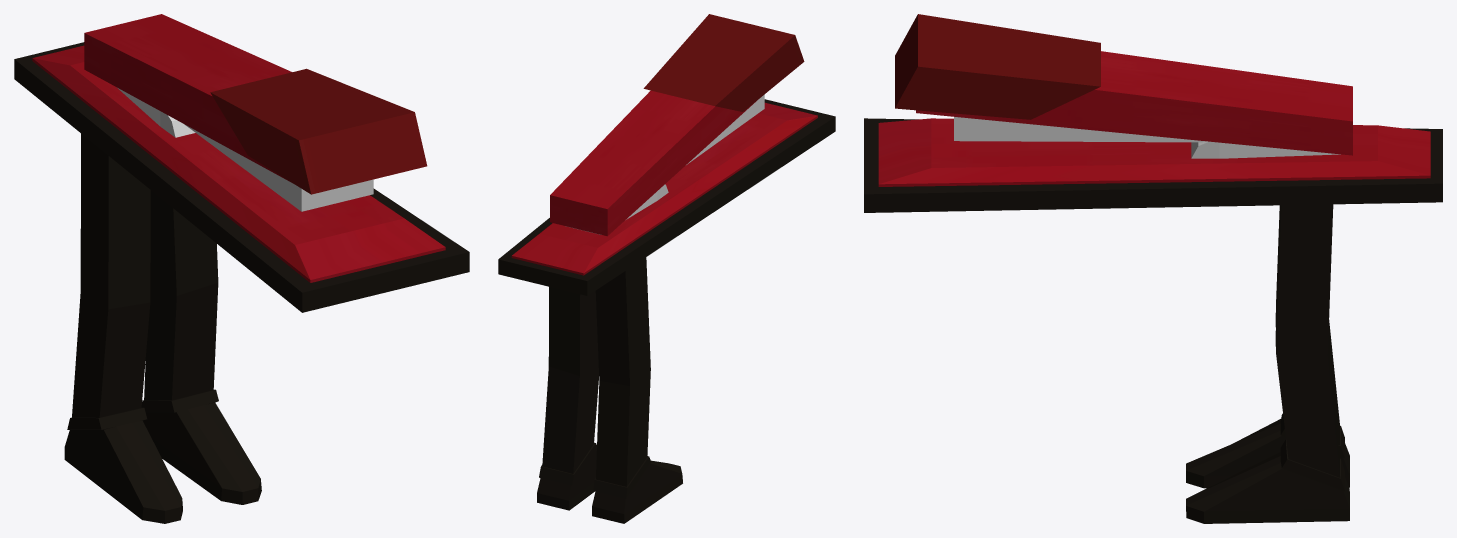
File: StaplerEnemySmall.fbx
3 renders of one model, left to right at view 1: azimuth 30°, elevation 25°; view 2: azimuth 150°, elevation 25°; view 3: azimuth 270°, elevation 25°, orthographic. The views are drawn at different scales.
Visible parts, largest first — view 1: Cube, Cube.001, Cube.003, Cube.004, Cube.005, Cube.002; view 2: Cube, Cube.001, Cube.003, Cube.004, Cube.005, Cube.002; view 3: Cube, Cube.003, Cube.004, Cube.005, Cube.002, Cube.001.
Boxes of the visible parts, x1,y1,x2,y2 form: Cube: (32, 14, 445, 282); Cube.001: (64, 133, 182, 523); Cube.003: (141, 190, 261, 504); Cube.004: (210, 68, 427, 194); Cube.005: (14, 42, 469, 312); Cube.002: (117, 87, 373, 211); Cube: (511, 90, 817, 275); Cube.001: (592, 257, 682, 523); Cube.003: (537, 287, 598, 510); Cube.004: (643, 14, 804, 111); Cube.005: (498, 99, 835, 295); Cube.002: (565, 94, 764, 234); Cube: (878, 51, 1430, 186); Cube.003: (1186, 204, 1349, 523); Cube.004: (895, 14, 1100, 119); Cube.005: (864, 118, 1442, 212); Cube.002: (954, 117, 1340, 158); Cube.001: (1186, 205, 1349, 488).
Bounding box in the file's own units: 110 × 308 × 353.
